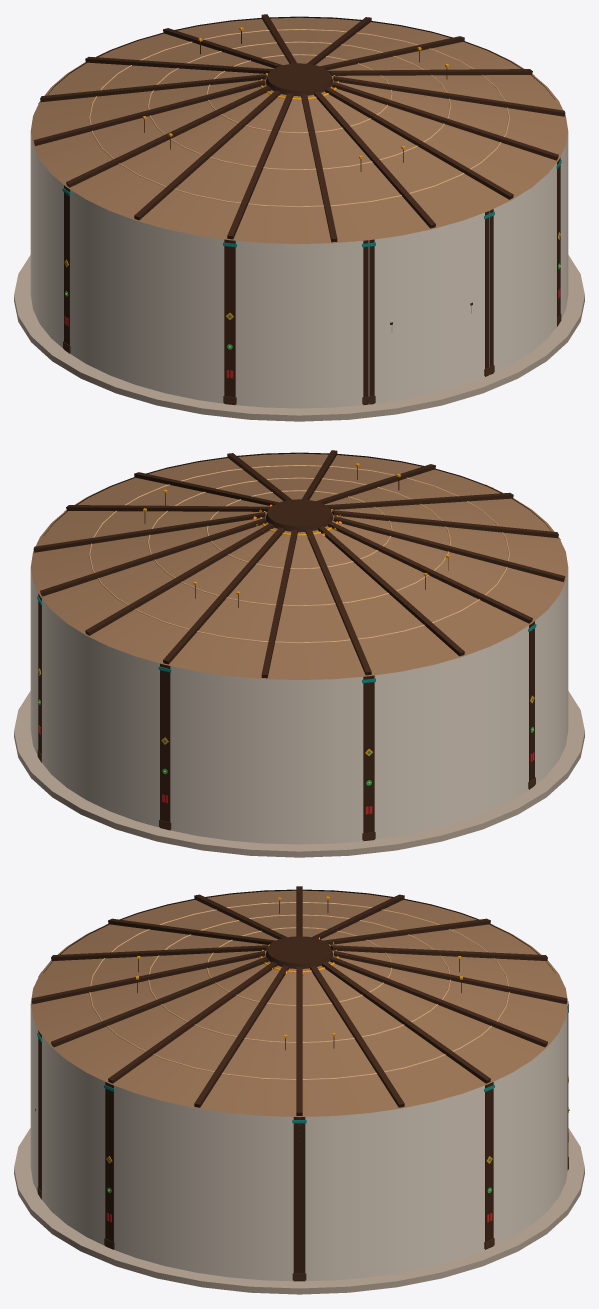
File: museo_wixarika_v16.glb
The picture shows the model from 3 angles, top to bottom: view 1: azimuth 30°, elevation 25°; view 2: azimuth 150°, elevation 25°; view 3: azimuth 270°, elevation 25°; orthographic projection.
Parts seen in each view (by area): view 1: muro_cilindrico, superficie_domo_conico, suelo_principal, estela_pilastra_8, pilastra_bienvenida_derecha_fuste, anillo_oculo, viga_radial_3, viga_radial_12, viga_radial_13, viga_radial_2, viga_radial_4, aro_otate_techo_1 (+16 smaller); view 2: muro_cilindrico, superficie_domo_conico, suelo_principal, estela_pilastra_6, estela_pilastra_5, anillo_oculo, viga_radial_7, viga_radial_14, viga_radial_13, viga_radial_8, viga_radial_6, aro_otate_techo_1 (+15 smaller); view 3: muro_cilindrico, superficie_domo_conico, suelo_principal, estela_pilastra_3, anillo_oculo, viga_radial_2, viga_radial_8, viga_radial_1, viga_radial_9, estela_pilastra_2, estela_pilastra_4, viga_radial_7 (+15 smaller).
Part boxes in pixels (bbox=[...]): muro_cilindrico: bbox=[30, 131, 568, 408]; superficie_domo_conico: bbox=[31, 17, 567, 243]; suelo_principal: bbox=[14, 255, 584, 421]; estela_pilastra_8: bbox=[223, 239, 236, 405]; pilastra_bienvenida_derecha_fuste: bbox=[363, 239, 374, 405]; anillo_oculo: bbox=[265, 63, 333, 96]; viga_radial_3: bbox=[332, 82, 558, 160]; viga_radial_12: bbox=[33, 80, 265, 145]; viga_radial_13: bbox=[66, 85, 270, 187]; viga_radial_2: bbox=[325, 87, 513, 199]; viga_radial_4: bbox=[333, 76, 565, 116]; aro_otate_techo_1: bbox=[88, 29, 510, 207]; muro_cilindrico: bbox=[30, 567, 568, 844]; superficie_domo_conico: bbox=[31, 453, 567, 679]; suelo_principal: bbox=[14, 691, 584, 857]; estela_pilastra_6: bbox=[362, 675, 375, 841]; estela_pilastra_5: bbox=[158, 663, 171, 830]; anillo_oculo: bbox=[265, 499, 333, 532]; viga_radial_7: bbox=[40, 518, 266, 596]; viga_radial_14: bbox=[333, 516, 565, 581]; viga_radial_13: bbox=[328, 521, 532, 623]; viga_radial_8: bbox=[85, 523, 273, 635]; viga_radial_6: bbox=[33, 512, 265, 552]; aro_otate_techo_1: bbox=[88, 465, 510, 643]; muro_cilindrico: bbox=[30, 1004, 567, 1281]; superficie_domo_conico: bbox=[31, 890, 567, 1116]; suelo_principal: bbox=[14, 1128, 584, 1294]; estela_pilastra_3: bbox=[292, 1117, 306, 1281]; anillo_oculo: bbox=[265, 936, 333, 968]; viga_radial_2: bbox=[51, 956, 268, 1047]; viga_radial_8: bbox=[330, 956, 547, 1047]; viga_radial_1: bbox=[31, 951, 264, 1004]; viga_radial_9: bbox=[334, 951, 567, 1004]; estela_pilastra_2: bbox=[104, 1082, 114, 1249]; estela_pilastra_4: bbox=[484, 1082, 494, 1249]; viga_radial_7: bbox=[321, 961, 490, 1083].
Size of what is drawn, in the model's own units: 17 by 7.36 by 17.
